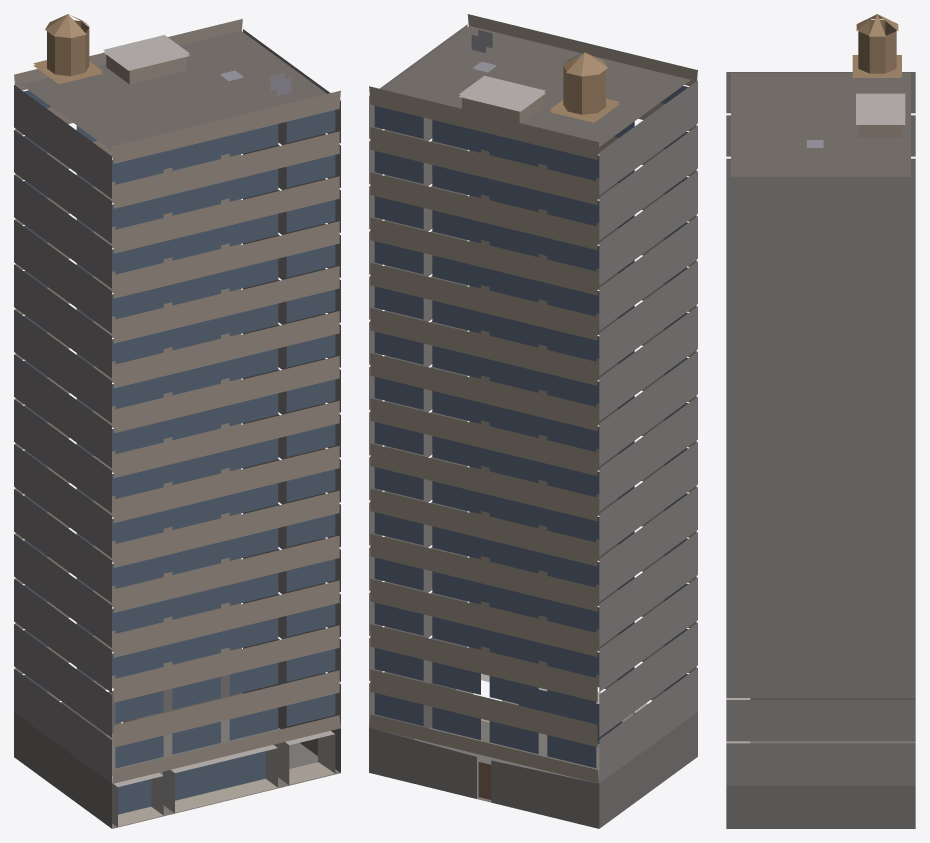
Rendered from city_slab.lod.glb.
The picture shows the model from 3 angles, left to right: view 1: azimuth 30°, elevation 25°; view 2: azimuth 150°, elevation 25°; view 3: azimuth 270°, elevation 25°; orthographic projection. The views are drawn at different scales.
Parts seen in each view (by area): view 1: city_slab; view 2: city_slab; view 3: city_slab.
Boxes of the visible parts, x1=… form: city_slab: x1=14, y1=14, x2=340, y2=828; city_slab: x1=369, y1=14, x2=697, y2=828; city_slab: x1=726, y1=14, x2=915, y2=828.
Bounding box in the file's own units: 16.62 × 52 × 12.34.
